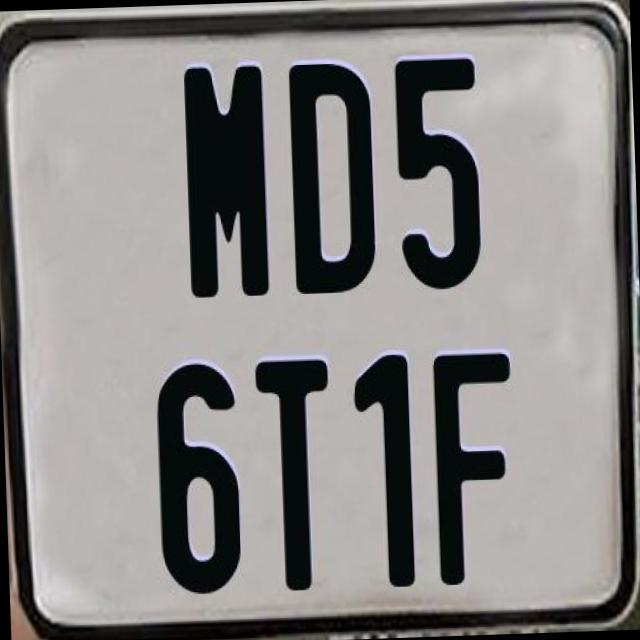1: (350, 353, 412, 598)
5: (392, 57, 484, 295)
6: (151, 356, 243, 594)
D: (287, 57, 382, 294)
F: (432, 351, 523, 585)
M: (182, 61, 270, 299)
T: (253, 353, 339, 596)
